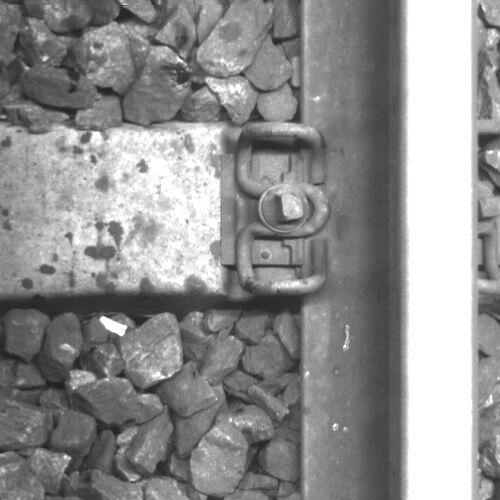rail: (401, 1, 478, 500)
tie_concr: (1, 129, 300, 297)
vossloh: (222, 117, 330, 294)
